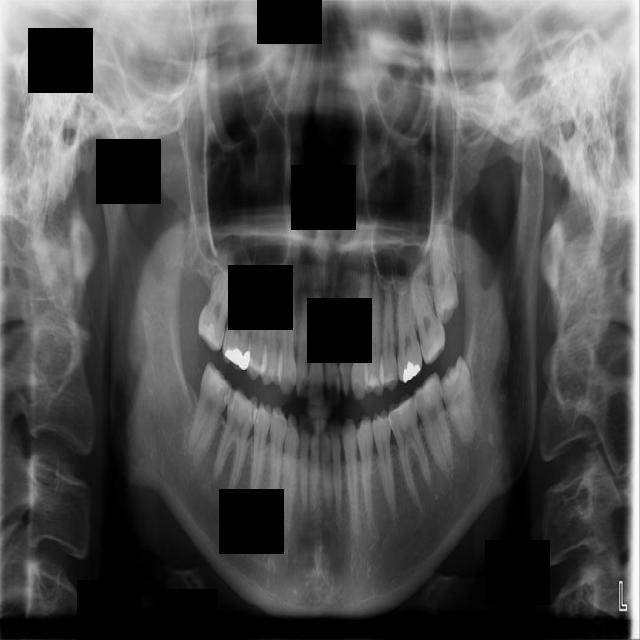52: (189, 359, 244, 415), (192, 296, 232, 354), (407, 372, 451, 424), (220, 384, 262, 436), (384, 391, 423, 443), (220, 319, 255, 372), (396, 334, 422, 383), (247, 400, 276, 440), (362, 353, 386, 399), (246, 336, 267, 380)
73: (602, 568, 608, 572)
BioHorizons Implant: (405, 262, 451, 367)
BioLife Implant: (424, 221, 462, 327)
Biomet 3i Implant: (431, 354, 489, 447)
Blue Sky Bio Implant: (409, 372, 456, 478)
Caries: (193, 249, 244, 353)
Implant: (184, 360, 237, 465)
